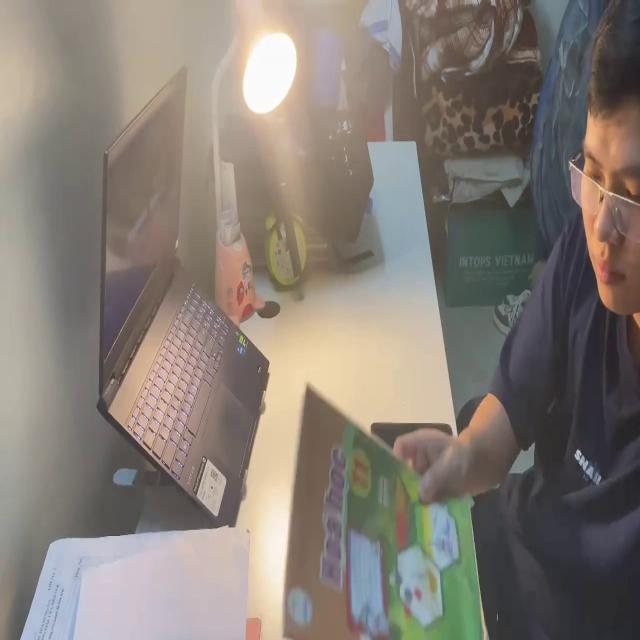book: (280, 381, 482, 640), (16, 526, 255, 640)
laptop: (96, 61, 272, 526)
phone: (371, 416, 454, 457)
student: (391, 0, 640, 640)
